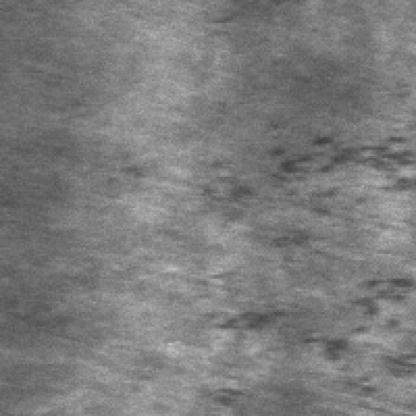rolled-in_scale: (191, 271, 412, 399), (193, 131, 412, 252)
